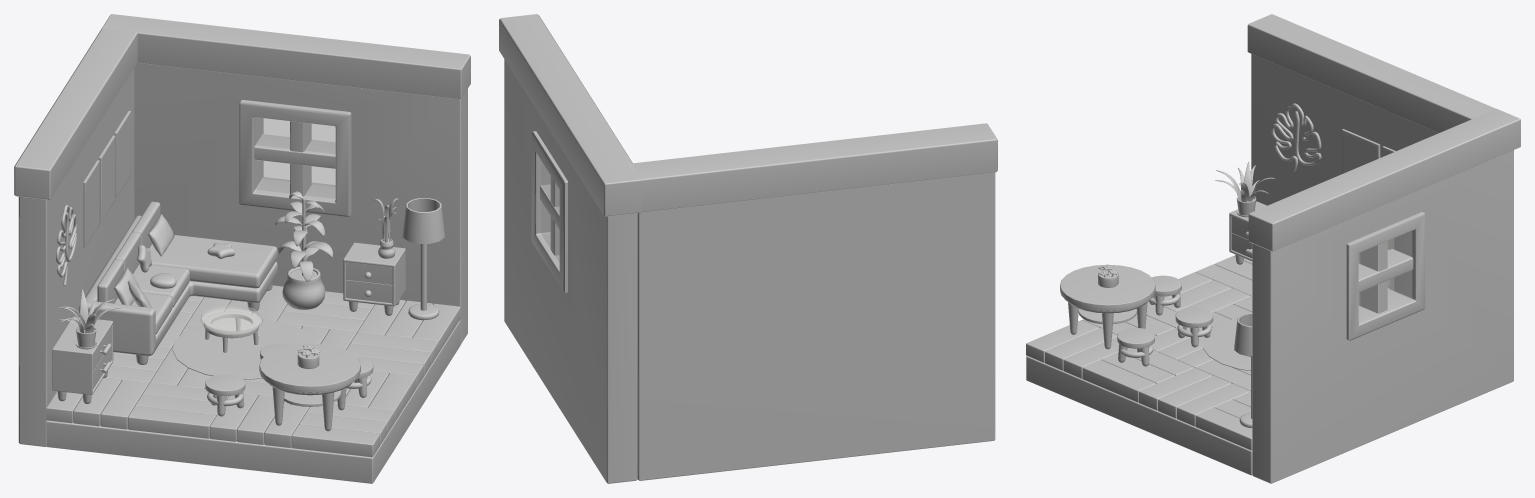
The model's file is Living_Room_30.fbx.
The picture shows the model from 3 angles, left to right: view 1: azimuth 30°, elevation 25°; view 2: azimuth 150°, elevation 25°; view 3: azimuth 270°, elevation 25°; orthographic projection. The views are drawn at different scales.
Visible parts, largest first — view 1: Room_30_Wall_2, Room_30_Floor_2, Room_30_Wall_1, Room_30_Couch_1, Room_30_Window_1, Room_30_Floor_1, Room_30_Table_1, Room_30_Carpet_1, Room_30_Cabinet_1, Room_30_Cabinet_2, Room_30_Plant_2, Room_30_Lamp_1 (+12 smaller); view 2: Room_30_Wall_1, Room_30_Wall_2, Room_30_Window_1; view 3: Room_30_Wall_2, Room_30_Wall_1, Room_30_Floor_2, Room_30_Window_1, Room_30_Floor_1, Room_30_Table_1, Room_30_Carpet_1, Room_30_Neon_sign_leaf_1, Room_30_Painting_1, Room_30_Chair_3, Room_30_Chair_2, Room_30_Cabinet_1 (+3 smaller).
Part boxes in pixels (left/top/right/bottom): Room_30_Wall_2: left=101, top=14, right=470, bottom=344; Room_30_Floor_2: left=46, top=285, right=460, bottom=457; Room_30_Wall_1: left=14, top=28, right=137, bottom=446; Room_30_Couch_1: left=79, top=201, right=277, bottom=364; Room_30_Window_1: left=239, top=99, right=351, bottom=216; Room_30_Floor_1: left=46, top=321, right=460, bottom=483; Room_30_Table_1: left=259, top=343, right=360, bottom=431; Room_30_Carpet_1: left=172, top=318, right=315, bottom=379; Room_30_Cabinet_1: left=52, top=316, right=113, bottom=403; Room_30_Cabinet_2: left=343, top=242, right=405, bottom=315; Room_30_Plant_2: left=275, top=191, right=333, bottom=309; Room_30_Lamp_1: left=402, top=198, right=444, bottom=320; Room_30_Wall_1: left=632, top=123, right=997, bottom=480; Room_30_Wall_2: left=499, top=14, right=642, bottom=483; Room_30_Window_1: left=531, top=131, right=567, bottom=292; Room_30_Wall_2: left=1248, top=109, right=1520, bottom=483; Room_30_Wall_1: left=1247, top=14, right=1495, bottom=249; Room_30_Floor_2: left=1026, top=255, right=1252, bottom=450; Room_30_Window_1: left=1346, top=212, right=1425, bottom=340; Room_30_Floor_1: left=1026, top=356, right=1252, bottom=475; Room_30_Table_1: left=1060, top=264, right=1155, bottom=349; Room_30_Carpet_1: left=1202, top=317, right=1250, bottom=370; Room_30_Neon_sign_leaf_1: left=1271, top=103, right=1321, bottom=175; Room_30_Painting_1: left=1342, top=129, right=1380, bottom=173; Room_30_Chair_3: left=1117, top=328, right=1154, bottom=366; Room_30_Chair_2: left=1175, top=307, right=1213, bottom=347; Room_30_Cabinet_1: left=1229, top=201, right=1266, bottom=264.
Bounding box in the file's own units: 715 × 417 × 712.
